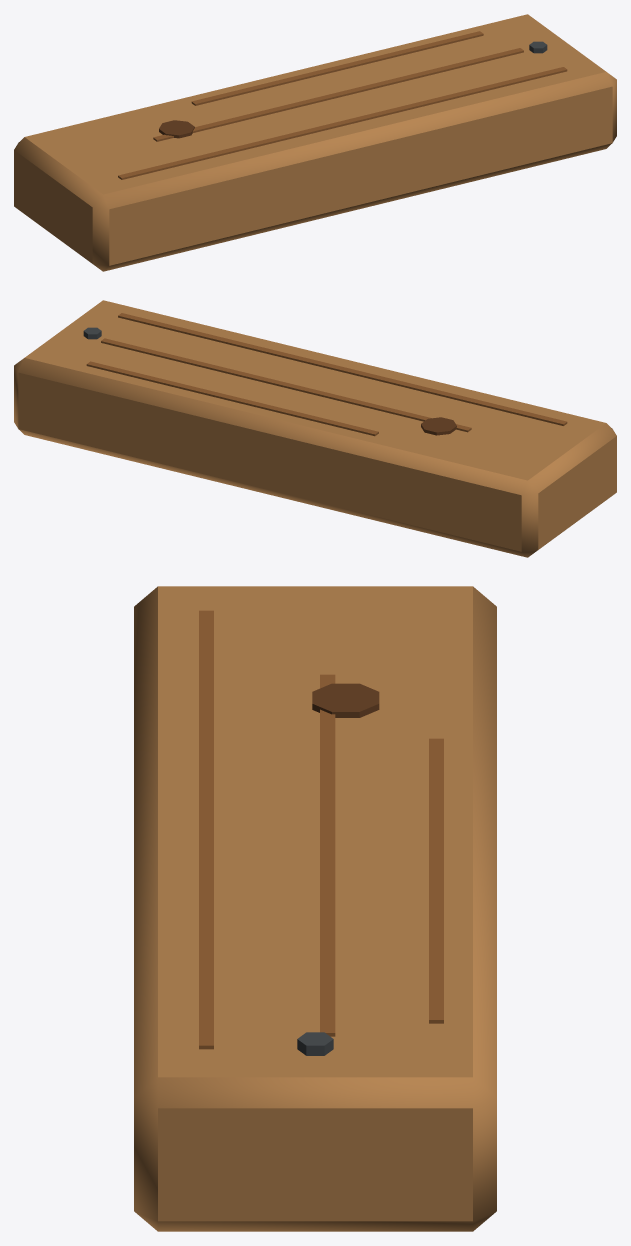
The model's file is 104_planche_bois.fbx.
3 renders of one model, top to bottom at view 1: azimuth 30°, elevation 25°; view 2: azimuth 150°, elevation 25°; view 3: azimuth 270°, elevation 25°, orthographic. The views are drawn at different scales.
Visible parts, largest first — view 1: Planche; view 2: Planche; view 3: Planche.
Part boxes in pixels (bbox=[...]): Planche: bbox=[14, 14, 616, 271]; Planche: bbox=[14, 300, 616, 557]; Planche: bbox=[134, 586, 496, 1231].
Bounding box in the file's own units: 0.56 × 0.084 × 0.168.
1 material, 1 textured.
